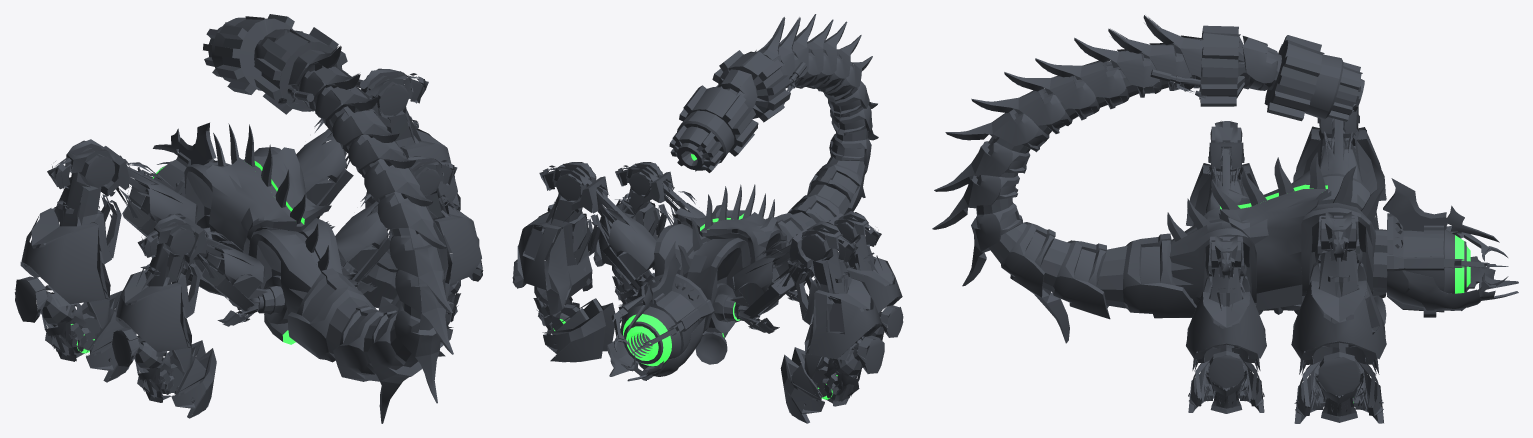
Rendered from scorpion.glb.
3 renders of one model, left to right at view 1: azimuth 30°, elevation 25°; view 2: azimuth 150°, elevation 25°; view 3: azimuth 270°, elevation 25°, orthographic. The views are drawn at different scales.
Parts seen in each view (by area): view 1: sc_legL0, sc_body, sc_legL1, sc_tail1, sc_tail0, sc_legR0, sc_legR1, sc_tail2, sc_tail3; view 2: sc_body, sc_legL0, sc_legR0, sc_tail3, sc_tail1, sc_tail2, sc_tail0, sc_legR1, sc_legL1; view 3: sc_body, sc_tail0, sc_legR0, sc_tail1, sc_legR1, sc_tail2, sc_tail3, sc_legL0, sc_legL1.
Boxes of the visible parts, x1=… form: sc_legL0: x1=14, y1=139, x2=207, y2=382; sc_body: x1=128, y1=122, x2=350, y2=344; sc_legL1: x1=111, y1=214, x2=265, y2=418; sc_tail1: x1=332, y1=94, x2=453, y2=354; sc_tail0: x1=287, y1=268, x2=452, y2=423; sc_legR0: x1=296, y1=68, x2=460, y2=308; sc_legR1: x1=335, y1=156, x2=483, y2=356; sc_tail2: x1=254, y1=27, x2=369, y2=132; sc_tail3: x1=203, y1=14, x2=303, y2=96; sc_body: x1=607, y1=184, x2=789, y2=381; sc_legL0: x1=724, y1=220, x2=884, y2=423; sc_legR0: x1=512, y1=162, x2=656, y2=362; sc_tail3: x1=669, y1=74, x2=767, y2=172; sc_tail1: x1=794, y1=14, x2=877, y2=148; sc_tail2: x1=712, y1=17, x2=813, y2=120; sc_tail0: x1=774, y1=129, x2=878, y2=244; sc_legR1: x1=593, y1=162, x2=705, y2=309; sc_legL1: x1=776, y1=211, x2=903, y2=367; sc_body: x1=1167, y1=152, x2=1518, y2=324; sc_tail0: x1=933, y1=206, x2=1196, y2=343; sc_legR0: x1=1291, y1=211, x2=1386, y2=423; sc_tail1: x1=932, y1=37, x2=1127, y2=228; sc_legR1: x1=1186, y1=235, x2=1266, y2=413; sc_tail2: x1=1106, y1=15, x2=1267, y2=106; sc_tail3: x1=1236, y1=35, x2=1364, y2=121; sc_legL0: x1=1293, y1=106, x2=1386, y2=229; sc_legL1: x1=1186, y1=121, x2=1259, y2=226.
Size of the model in its own units: 5.16 by 4.12 by 6.46.
